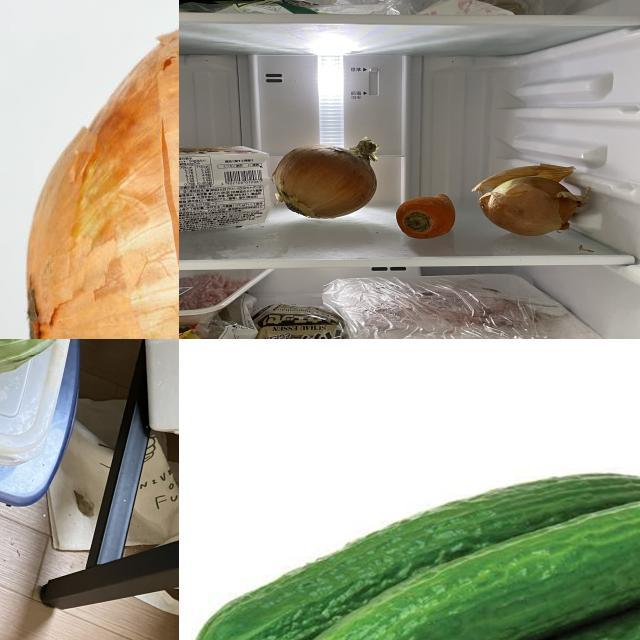carrot: (401, 188, 462, 246)
cucumber: (187, 474, 640, 640), (242, 484, 640, 640)
onion: (26, 1, 180, 340), (276, 139, 394, 233), (480, 165, 602, 239)
